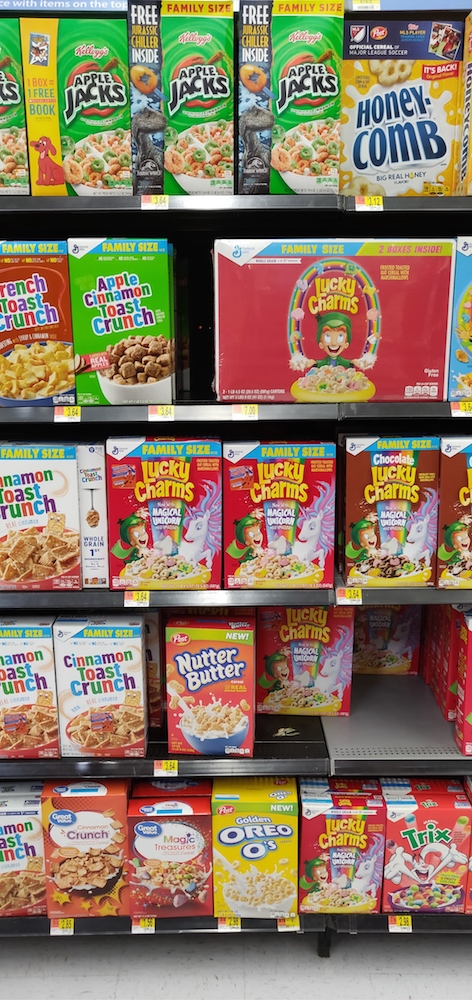Nutter Butter-565717511: (170, 624, 254, 754)
Oreo Golden-568301011: (210, 788, 305, 915)
